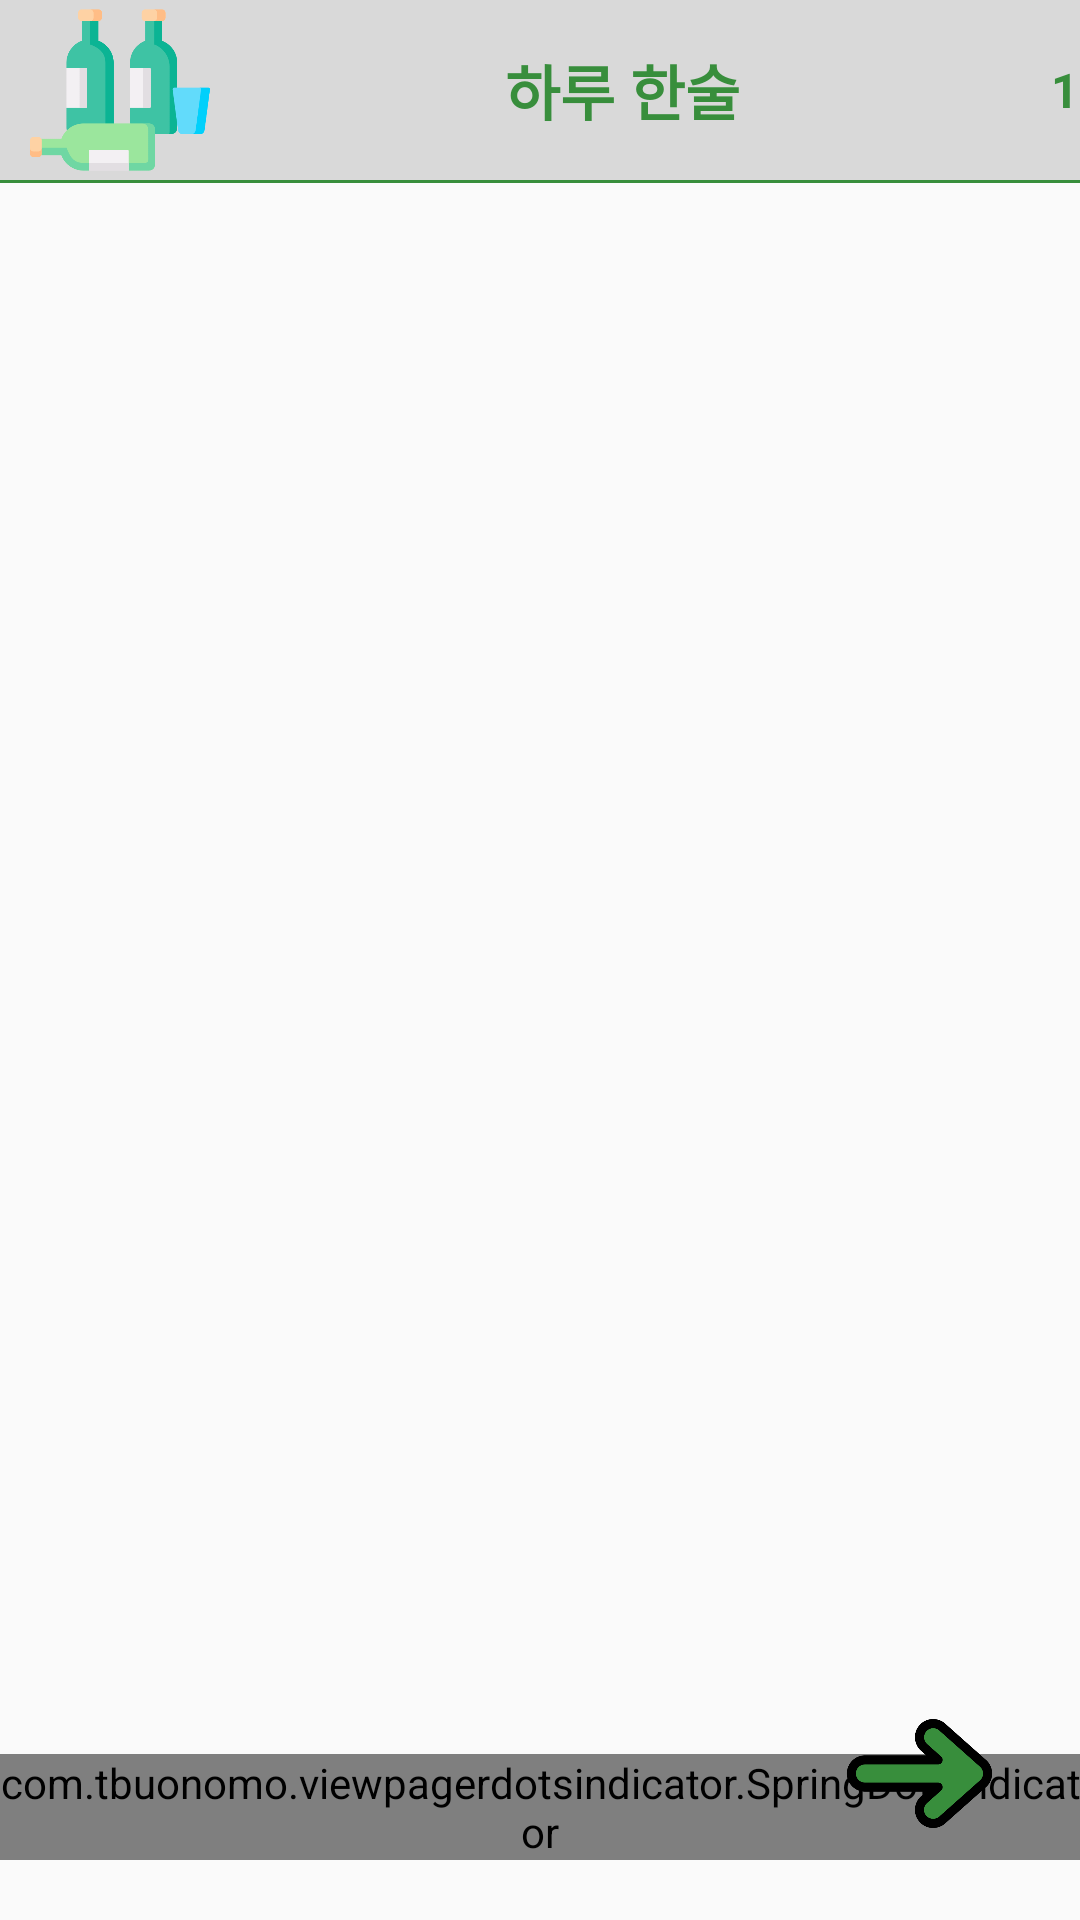

Icon click points for this 1080x1920 phone screenshot, format [x,y]:
drunk: [120,90]
